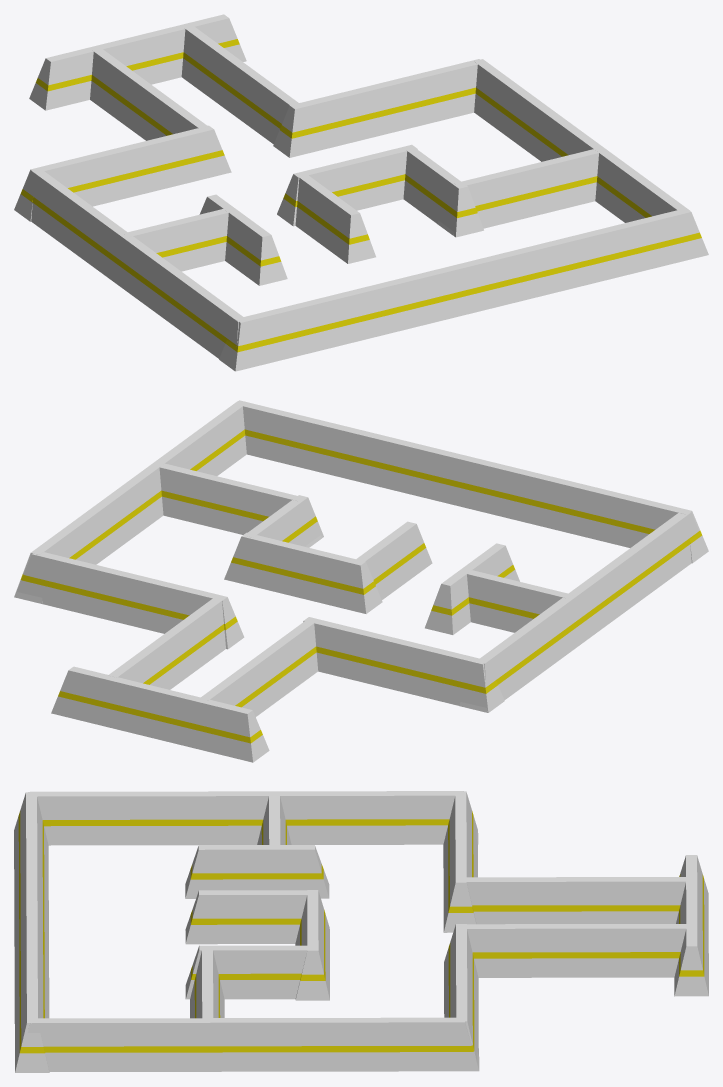
The model's file is Trapezi_Walls.fbx.
3 views of the same model, one above another, from view 1: azimuth 30°, elevation 25°; view 2: azimuth 150°, elevation 25°; view 3: azimuth 270°, elevation 25° (orthographic). The views are drawn at different scales.
Visible parts, largest first — view 1: pasted__pCube1 (×3), pasted__pasted__pasted__pCube1 (×2), pasted__pasted__pCube1 (×2), pasted__pasted__pasted__pasted__pasted__pCube1 (×3), pCube1, pasted__pasted__pasted__pasted__pCube1, pasted__pasted__pasted__pasted__pasted__pasted__pCube1, pasted__pasted__pasted__pasted__pasted__pasted__pasted__pCub; view 2: pasted__pCube1 (×3), pasted__pasted__pasted__pCube1 (×2), pasted__pasted__pCube1 (×2), pCube1, pasted__pasted__pasted__pasted__pasted__pCube1 (×3), pasted__pasted__pasted__pasted__pCube1, pasted__pasted__pasted__pasted__pasted__pasted__pasted__pCub, pasted__pasted__pasted__pasted__pasted__pasted__pCube1; view 3: pasted__pCube1 (×3), pCube1, pasted__pasted__pCube1 (×2), pasted__pasted__pasted__pasted__pasted__pCube1 (×3), pasted__pasted__pasted__pCube1 (×2), pasted__pasted__pasted__pasted__pasted__pasted__pasted__pCub, pasted__pasted__pasted__pasted__pasted__pasted__pCube1, pasted__pasted__pasted__pasted__pCube1.
Part boxes in pixels (x1,y1,x2,y2): pasted__pCube1 (×3): [90, 48, 708, 371]; pasted__pasted__pasted__pCube1 (×2): [29, 14, 479, 157]; pasted__pasted__pCube1 (×2): [14, 26, 299, 221]; pasted__pasted__pasted__pasted__pasted__pCube1 (×3): [123, 146, 598, 271]; pCube1: [23, 168, 242, 358]; pasted__pasted__pasted__pasted__pCube1: [277, 144, 417, 226]; pasted__pasted__pasted__pasted__pasted__pasted__pCube1: [295, 175, 375, 263]; pasted__pasted__pasted__pasted__pasted__pasted__pasted__pCub: [199, 194, 287, 285]; pasted__pCube1 (×3): [14, 400, 708, 716]; pasted__pasted__pasted__pCube1 (×2): [17, 552, 269, 762]; pasted__pasted__pCube1 (×2): [108, 598, 504, 712]; pCube1: [459, 512, 699, 712]; pasted__pasted__pasted__pasted__pasted__pCube1 (×3): [159, 463, 572, 632]; pasted__pasted__pasted__pasted__pCube1: [224, 532, 382, 613]; pasted__pasted__pasted__pasted__pasted__pasted__pasted__pCub: [425, 543, 519, 634]; pasted__pasted__pasted__pasted__pasted__pasted__pCube1: [356, 521, 432, 599]; pasted__pCube1 (×3): [14, 792, 688, 1072]; pCube1: [30, 791, 478, 845]; pasted__pasted__pCube1 (×2): [443, 791, 687, 977]; pasted__pasted__pasted__pasted__pasted__pCube1 (×3): [185, 793, 315, 1018]; pasted__pasted__pasted__pCube1 (×2): [444, 855, 708, 1063]; pasted__pasted__pasted__pasted__pasted__pasted__pasted__pCub: [185, 845, 329, 898]; pasted__pasted__pasted__pasted__pasted__pasted__pCube1: [185, 890, 307, 944]; pasted__pasted__pasted__pasted__pCube1: [295, 890, 329, 1000].
Size of the model in its own units: 202 by 17.44 by 243.
